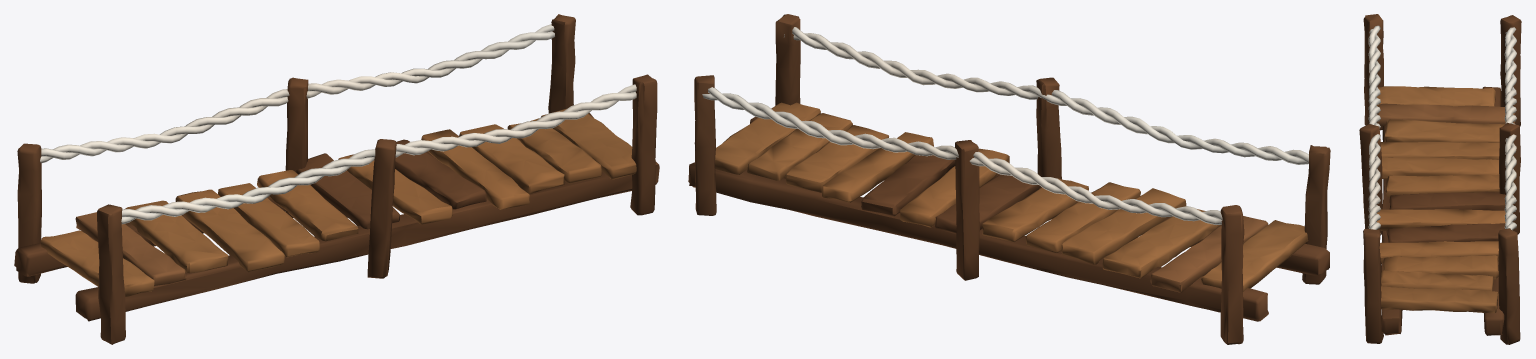
The model's file is glade_bridge_planks.glb.
The picture shows the model from 3 angles, left to right: view 1: azimuth 30°, elevation 25°; view 2: azimuth 150°, elevation 25°; view 3: azimuth 270°, elevation 25°; orthographic projection. The views are drawn at different scales.
Parts seen in each view (by area): view 1: glade_bridge_planks; view 2: glade_bridge_planks; view 3: glade_bridge_planks.
Part boxes in pixels (x1,y1,x2,y2): glade_bridge_planks: (14, 14, 659, 344); glade_bridge_planks: (688, 14, 1330, 344); glade_bridge_planks: (1359, 14, 1521, 344).
Bounding box in the file's own units: 10.85 × 2.44 × 3.22.
